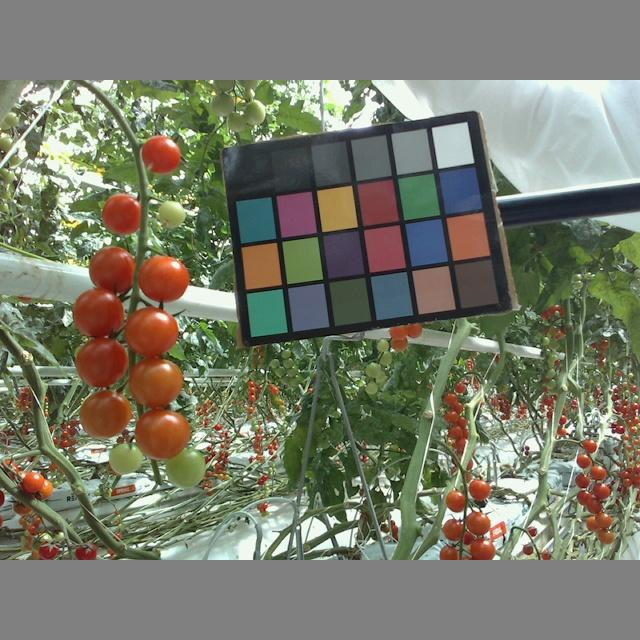green: (163, 447, 208, 488), (107, 440, 142, 474), (156, 199, 187, 228), (243, 96, 266, 126), (211, 92, 238, 117)
pink: (122, 304, 180, 359), (125, 356, 185, 409), (135, 407, 193, 460), (76, 389, 134, 438), (73, 335, 128, 385), (86, 244, 139, 294), (71, 288, 125, 337), (136, 256, 192, 303), (101, 192, 145, 234), (140, 132, 180, 174), (465, 507, 491, 537), (466, 536, 495, 560), (442, 516, 468, 542), (20, 472, 46, 494), (468, 478, 493, 500), (446, 487, 467, 511)
